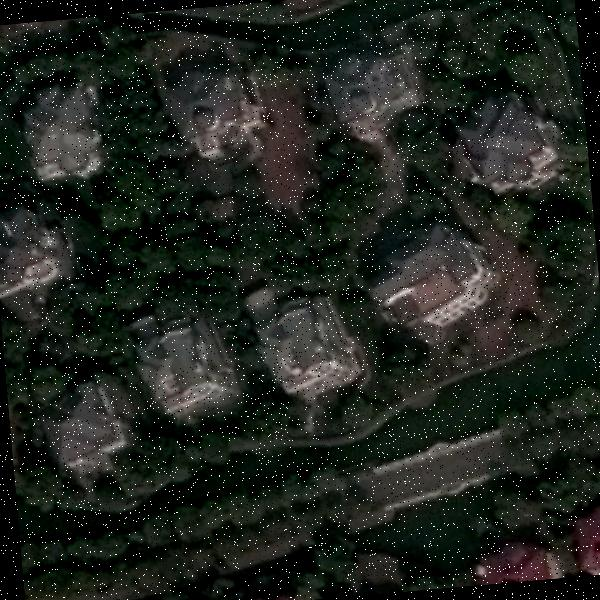Buildings: (376, 220, 496, 353), (456, 98, 550, 188), (322, 51, 419, 130), (169, 66, 256, 150), (478, 542, 558, 585), (563, 500, 600, 577)
